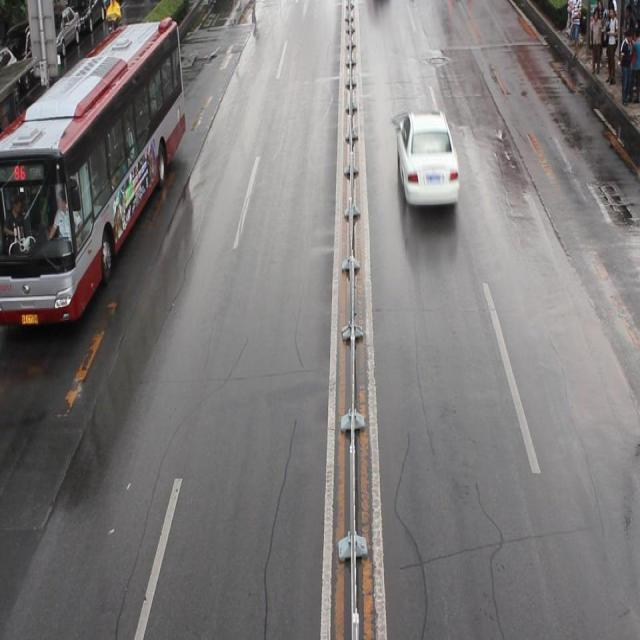car: (395, 114, 457, 205)
van: (1, 17, 186, 321)
